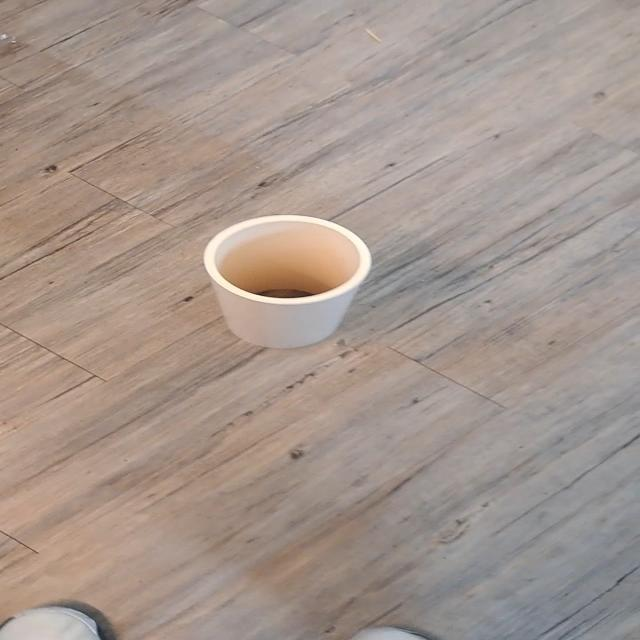CORAL: (185, 199, 398, 366)
